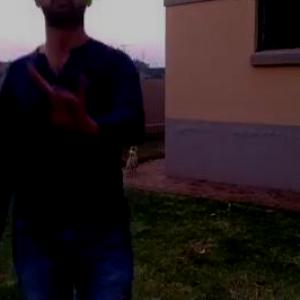takeoff-hand: (24, 58, 98, 138)
